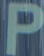Parking: (9, 0, 42, 55)
